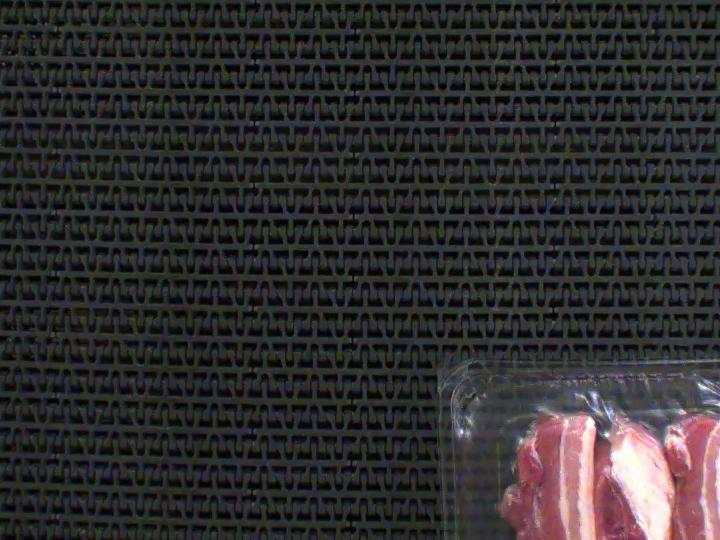unsealed: (453, 355, 720, 540)
